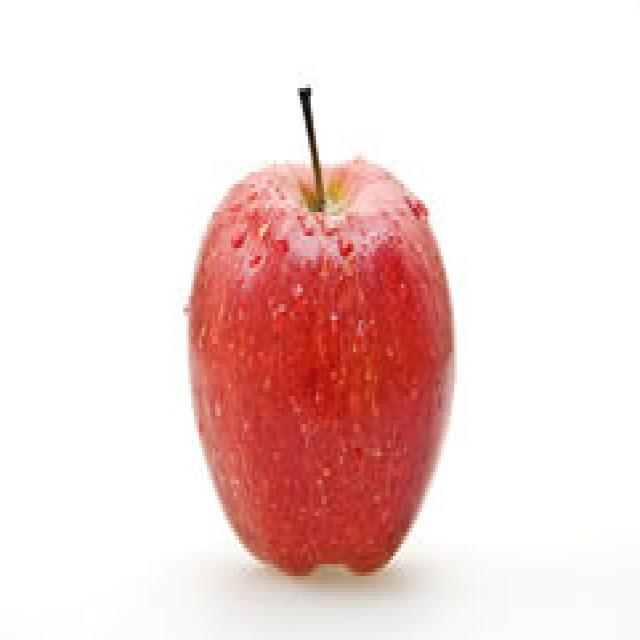Apple: (186, 83, 459, 579)
